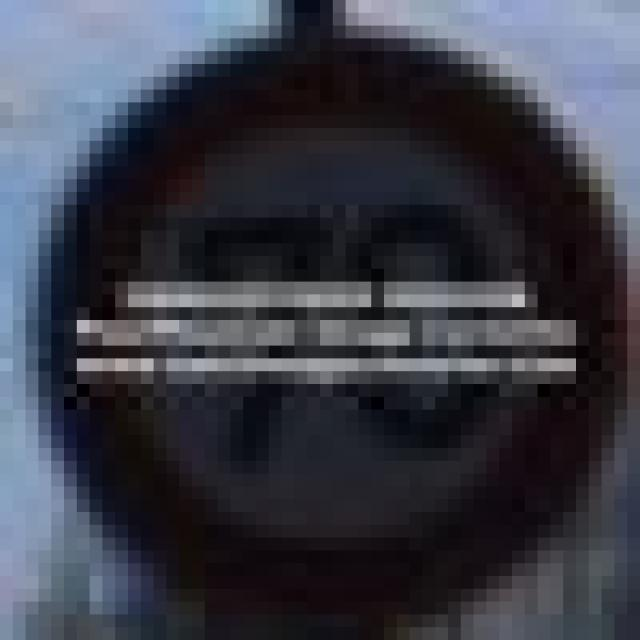SPEED_LIMIT_70: (26, 26, 614, 614)
